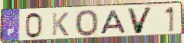0: (24, 12, 44, 39)
1: (164, 6, 176, 33)
A: (100, 9, 128, 35)
K: (51, 12, 70, 37)
O: (74, 9, 100, 38)
V: (126, 6, 155, 36)
